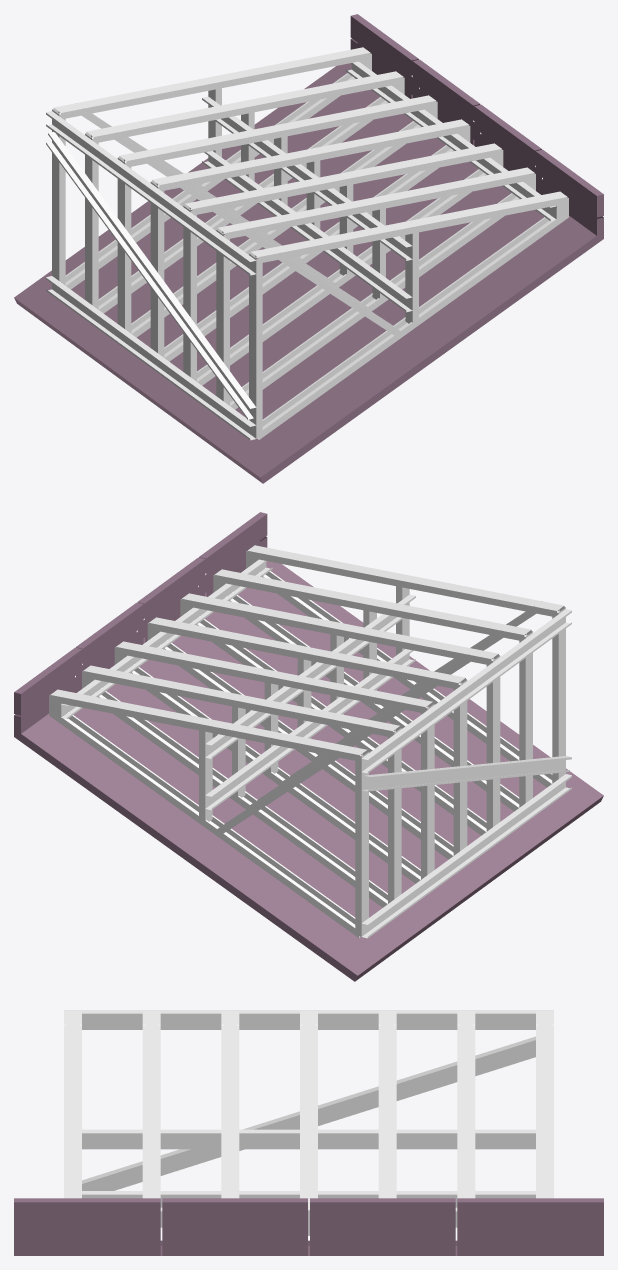
File: asset.glb
3 views of the same model, one above another, from view 1: azimuth 30°, elevation 25°; view 2: azimuth 150°, elevation 25°; view 3: azimuth 270°, elevation 25° (orthographic). The views are drawn at different scales.
Parts seen in each view (by area): view 1: imagetostl_mesh; view 2: imagetostl_mesh; view 3: imagetostl_mesh.
Boxes of the visible parts, x1,y1,x2,y2 form: imagetostl_mesh: (14, 14, 603, 483); imagetostl_mesh: (14, 512, 603, 981); imagetostl_mesh: (14, 1010, 603, 1255).
Size of the model in its own units: 96.72 by 55.79 by 120.
